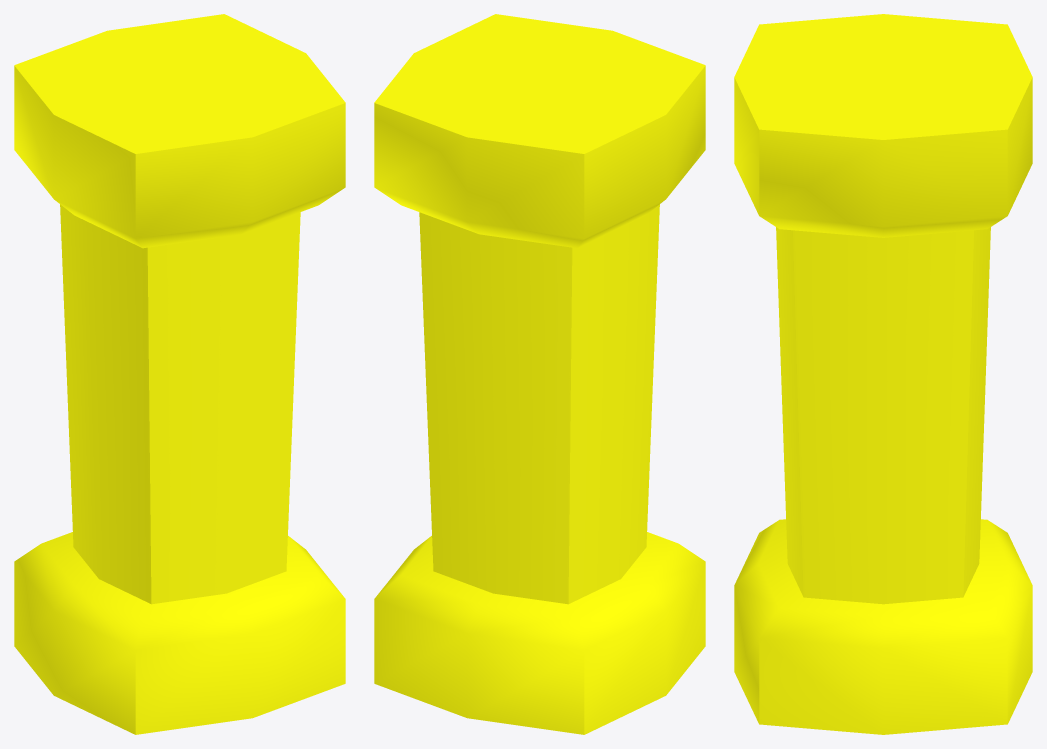
Rendered from 建筑构件_柱子.glb.
3 views of the same model, side by side, from view 1: azimuth 30°, elevation 25°; view 2: azimuth 150°, elevation 25°; view 3: azimuth 270°, elevation 25° (orthographic). The views are drawn at different scales.
Visible parts, largest first — view 1: column; view 2: column; view 3: column.
Part boxes in pixels (x1,y1,x2,y2): column: (14,14,345,734); column: (374,14,705,734); column: (734,14,1032,734).
Size of the model in its own units: 0.5 by 1.1 by 0.5.
1 material, 1 textured.
